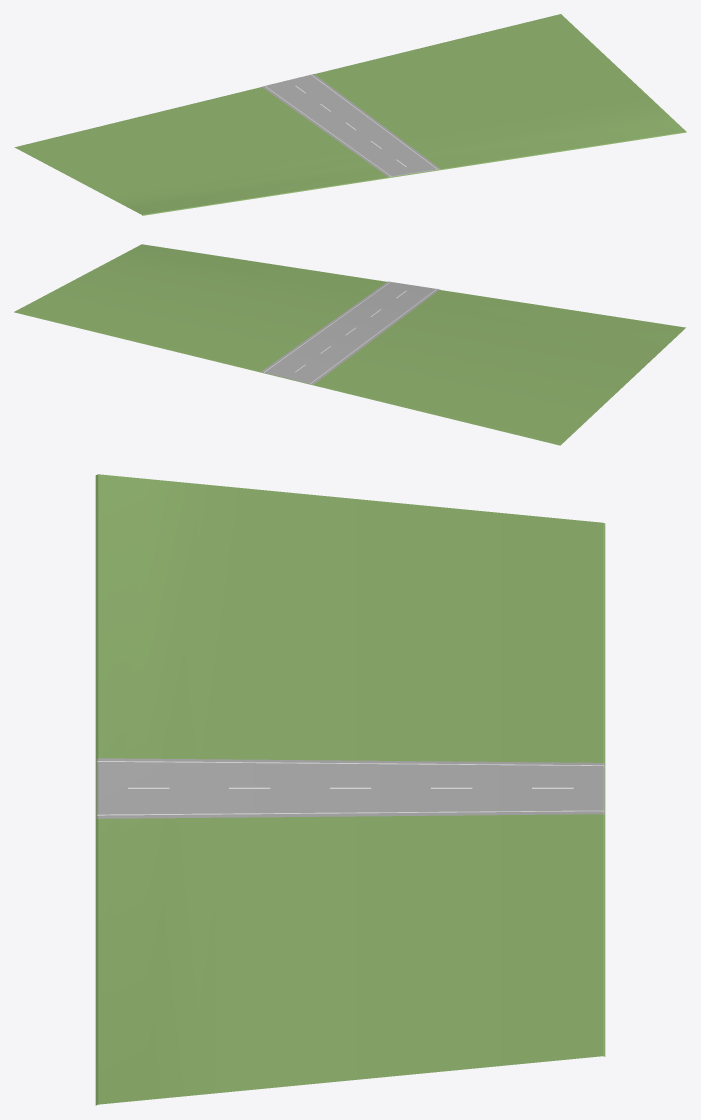
The model's file is road_leftLean5.fbx.
3 renders of one model, top to bottom at view 1: azimuth 30°, elevation 25°; view 2: azimuth 150°, elevation 25°; view 3: azimuth 270°, elevation 25°, orthographic. The views are drawn at different scales.
Parts seen in each view (by area): view 1: grass2, road_leanL, stuff15; view 2: grass2, road_leanL, stuff15; view 3: grass2, road_leanL, stuff15.
Boxes of the visible parts, x1,y1,x2,y2 form: grass2: [14, 14, 686, 215]; road_leanL: [262, 74, 440, 177]; stuff15: [265, 74, 437, 176]; grass2: [14, 244, 685, 445]; road_leanL: [261, 281, 440, 384]; stuff15: [264, 281, 437, 383]; grass2: [95, 474, 605, 1105]; road_leanL: [96, 758, 604, 818]; stuff15: [97, 761, 604, 815].
Size of the model in its own units: 25 by 2.19 by 10.09.
